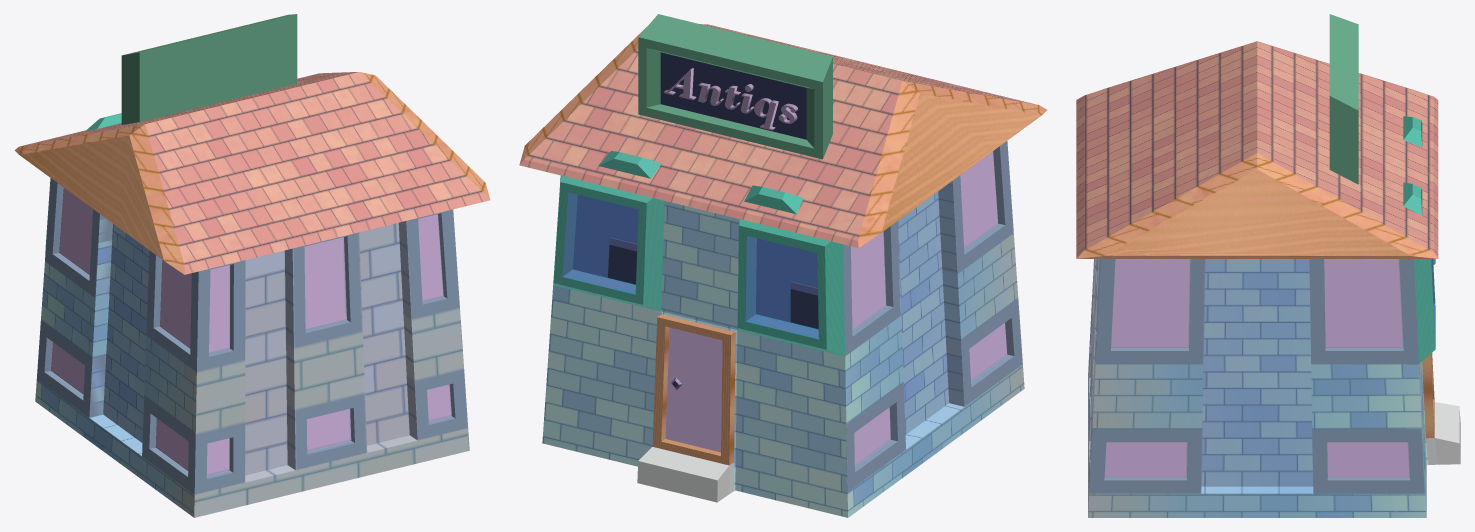
The model's file is Shop Regular.fbx.
The picture shows the model from 3 angles, left to right: view 1: azimuth 30°, elevation 25°; view 2: azimuth 150°, elevation 25°; view 3: azimuth 270°, elevation 25°; orthographic projection. The views are drawn at different scales.
Parts seen in each view (by area): view 1: Shop Regular; view 2: Shop Regular; view 3: Shop Regular.
Boxes of the visible parts, x1,y1,x2,y2 form: Shop Regular: (14, 14, 490, 517); Shop Regular: (519, 14, 1046, 517); Shop Regular: (1076, 14, 1460, 517).
Bounding box in the file's own units: 233 × 255 × 227.
